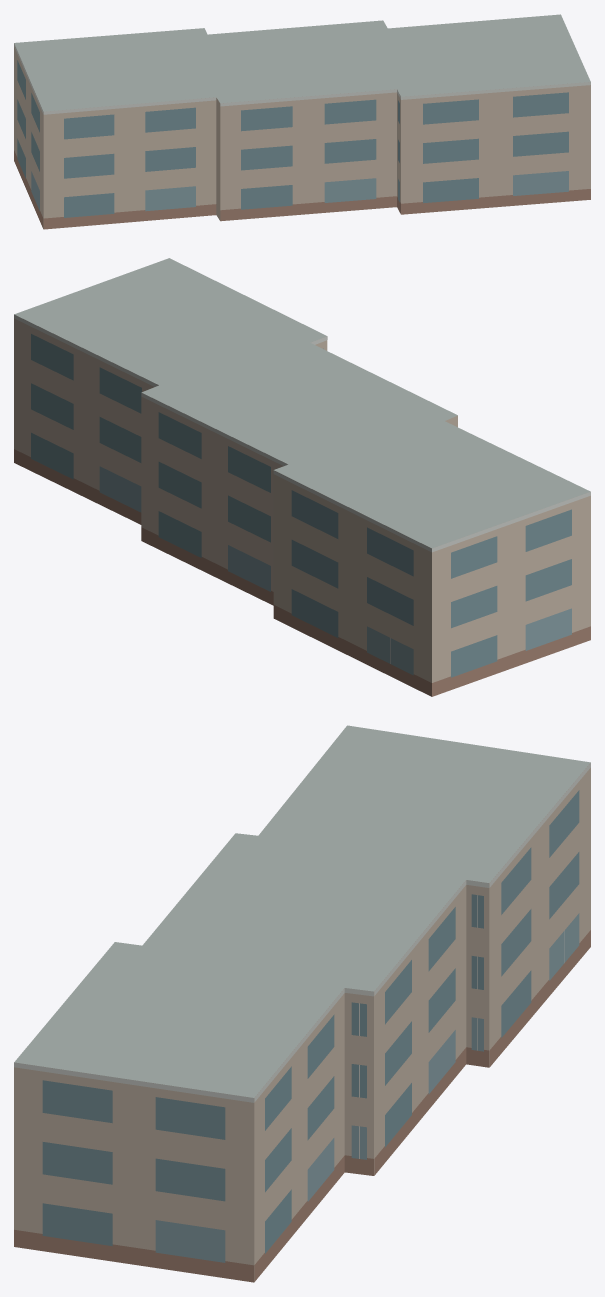
File: survey-upis-32519883.glb
3 views of the same model, one above another, from view 1: azimuth 30°, elevation 25°; view 2: azimuth 150°, elevation 25°; view 3: azimuth 270°, elevation 25° (orthographic). The views are drawn at different scales.
Visible parts, largest first — view 1: survey-upis-32519883.tmp; view 2: survey-upis-32519883.tmp; view 3: survey-upis-32519883.tmp.
Part boxes in pixels (bbox=[...]): survey-upis-32519883.tmp: bbox=[14, 14, 590, 229]; survey-upis-32519883.tmp: bbox=[14, 258, 590, 696]; survey-upis-32519883.tmp: bbox=[14, 725, 590, 1282].
Size of the model in its own units: 39.64 by 9.15 by 25.93.
